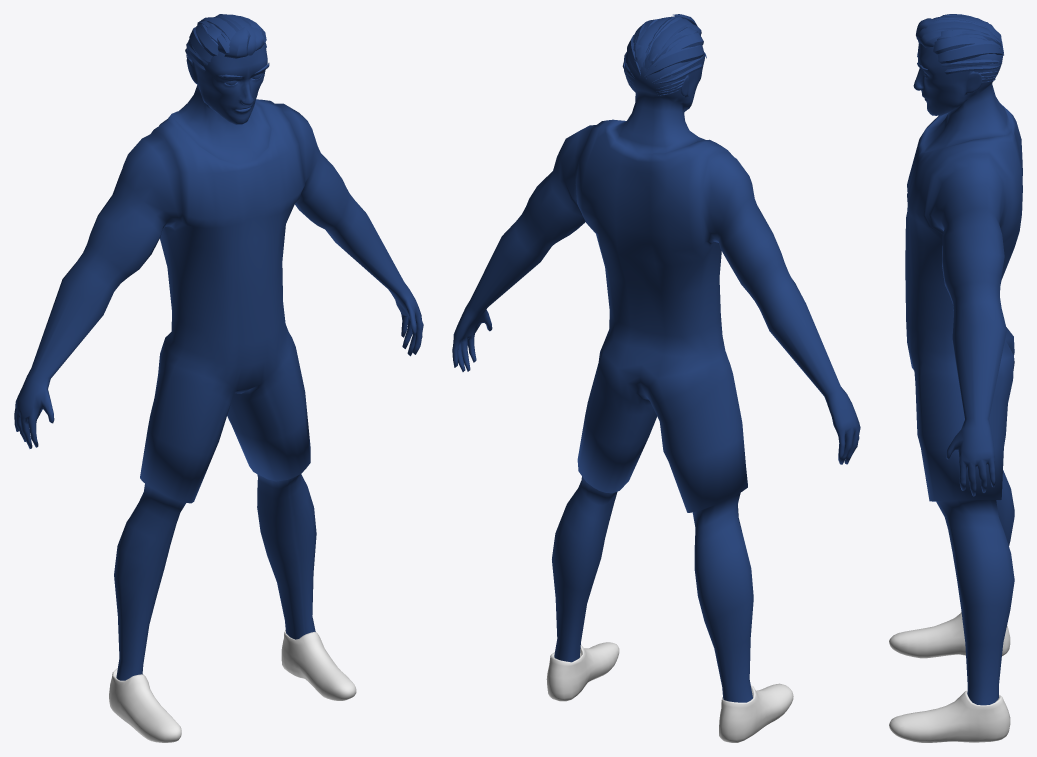
The model's file is Body Low.fbx.
3 renders of one model, left to right at view 1: azimuth 30°, elevation 25°; view 2: azimuth 150°, elevation 25°; view 3: azimuth 270°, elevation 25°, orthographic.
Parts seen in each view (by area): view 1: Plane.044, Chuteira Base; view 2: Plane.044, Chuteira Base; view 3: Plane.044, Chuteira Base.
Boxes of the visible parts, x1,y1,x2,y2 form: Plane.044: (14,14,423,680); Chuteira Base: (109,630,356,742); Plane.044: (452,14,860,702); Chuteira Base: (546,642,793,742); Plane.044: (905,14,1022,705); Chuteira Base: (889,612,1010,742).
Bounding box in the file's own units: 714 × 1169 × 209.
